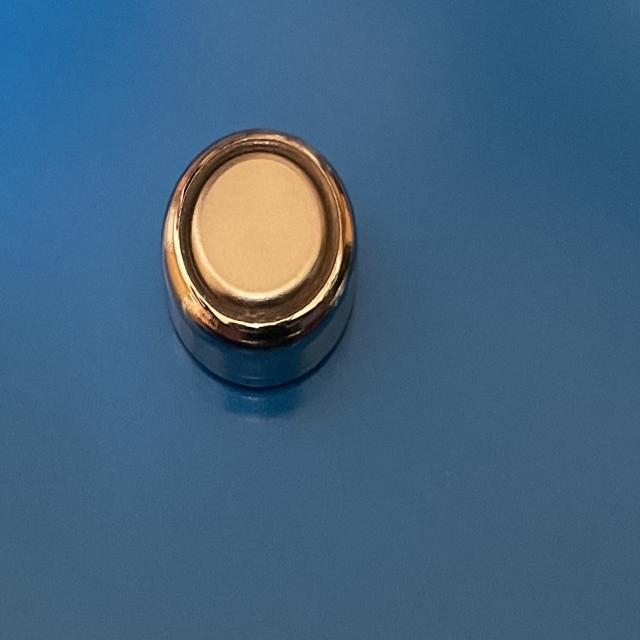COIN: (160, 128, 360, 389)
